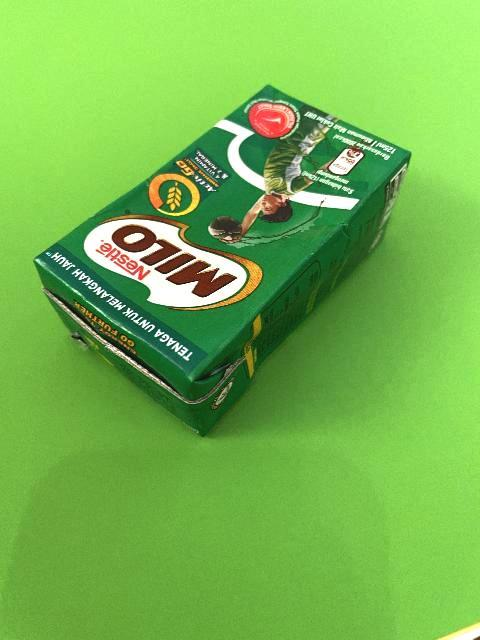drinkpack: (33, 82, 413, 440)
